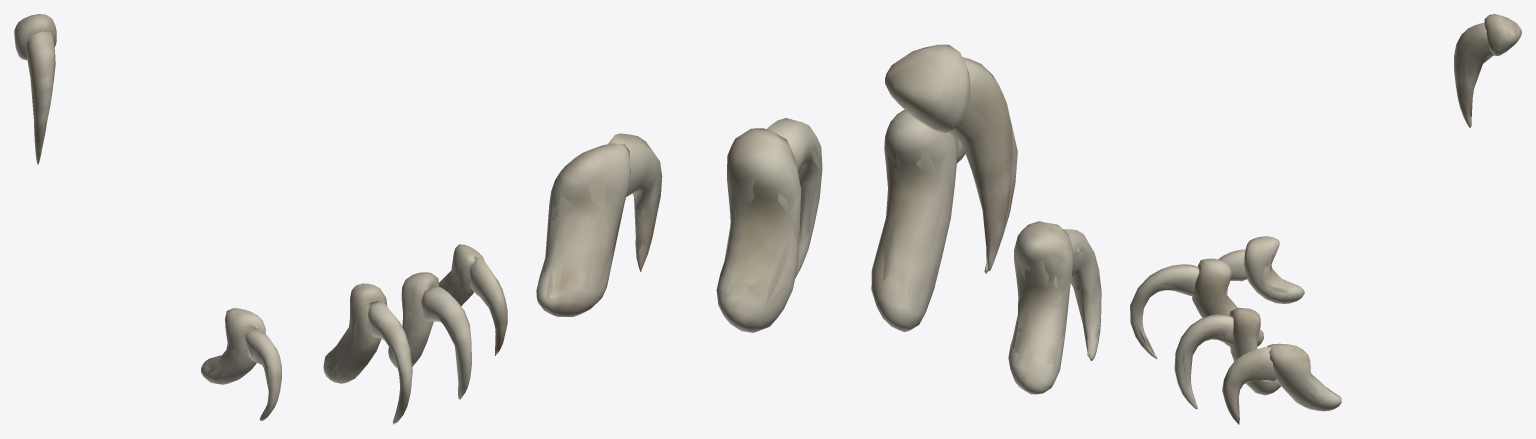
The model's file is LF 3rd Phalanx.fbx.
The picture shows the model from 3 angles, left to right: view 1: azimuth 30°, elevation 25°; view 2: azimuth 150°, elevation 25°; view 3: azimuth 270°, elevation 25°; orthographic projection. The views are drawn at different scales.
Parts seen in each view (by area): view 1: LF 3rd Phalanx, LF 3rd Phalanx low, LF 3rd Phalanx high; view 2: LF 3rd Phalanx, LF 3rd Phalanx low, LF 3rd Phalanx high; view 3: LF 3rd Phalanx, LF 3rd Phalanx low, LF 3rd Phalanx high.
Boxes of the visible parts, bbox=[...] form: LF 3rd Phalanx: bbox=[14, 14, 507, 424]; LF 3rd Phalanx low: bbox=[17, 15, 507, 423]; LF 3rd Phalanx high: bbox=[15, 14, 500, 417]; LF 3rd Phalanx: bbox=[536, 44, 1101, 394]; LF 3rd Phalanx low: bbox=[537, 45, 1101, 393]; LF 3rd Phalanx high: bbox=[541, 48, 1099, 387]; LF 3rd Phalanx: bbox=[1130, 14, 1521, 424]; LF 3rd Phalanx low: bbox=[1131, 15, 1513, 422]; LF 3rd Phalanx high: bbox=[1134, 15, 1506, 424].
Size of the model in its own units: 2.54 by 2.23 by 2.78.
Materials: 1 (1 with a texture image).
